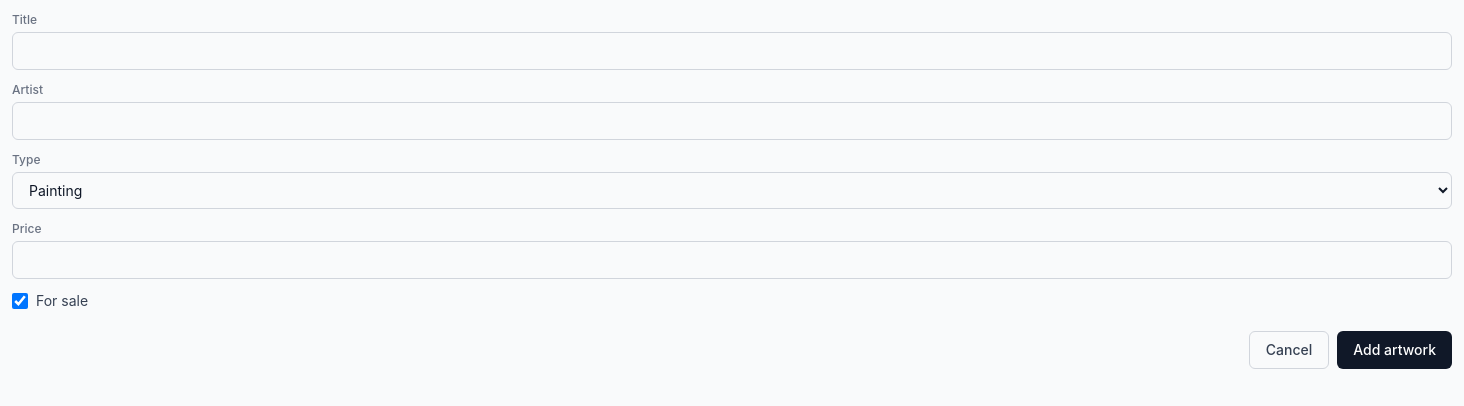
Test: ArtworkForm › rejects a price with more than 2 decimal places
The image size is (1464, 406).
Type "Small Sketch" into the field labelled "Title" at x=732, y=51, box x1=12 y1=32 x2=1452 y2=70
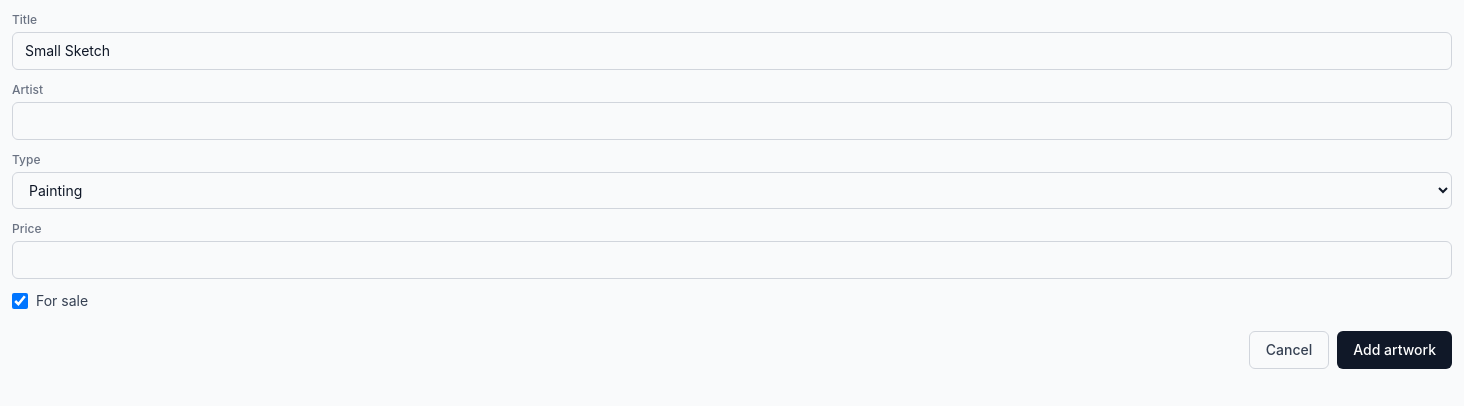
Type "Jane Doe" into the field labelled "Artist" at x=732, y=121, box x1=12 y1=102 x2=1452 y2=140
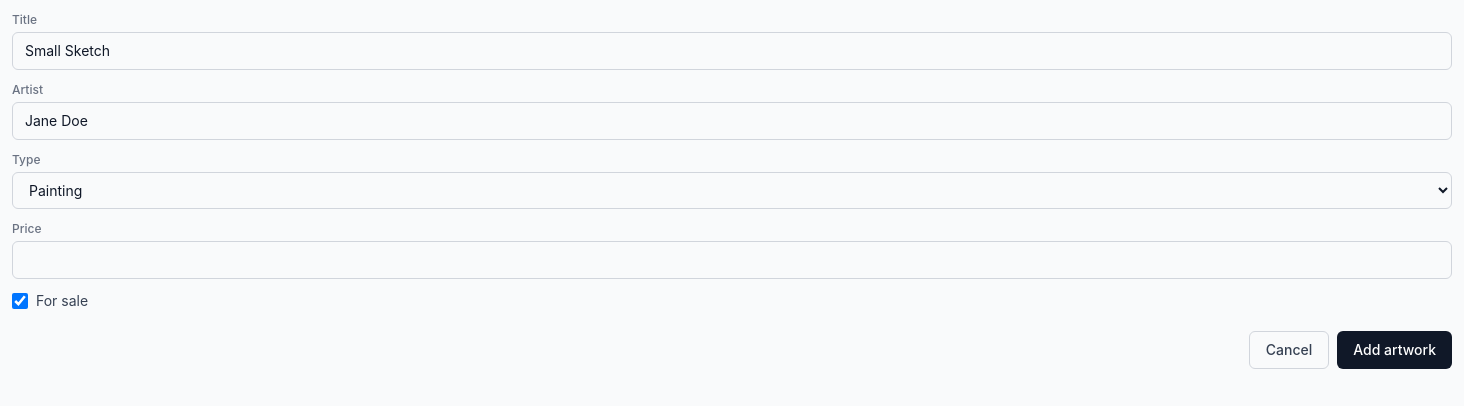
Type "10.555" into the number field labelled "Price" at x=732, y=260, box x1=12 y1=241 x2=1452 y2=279
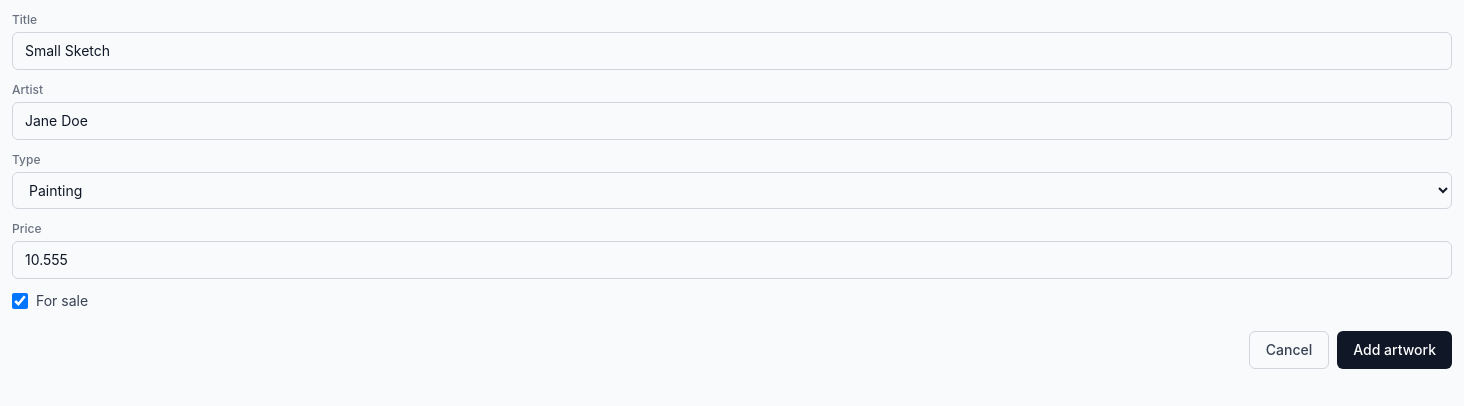
Click the button "Add artwork" at x=1395, y=350, box x1=1337 y1=331 x2=1452 y2=369
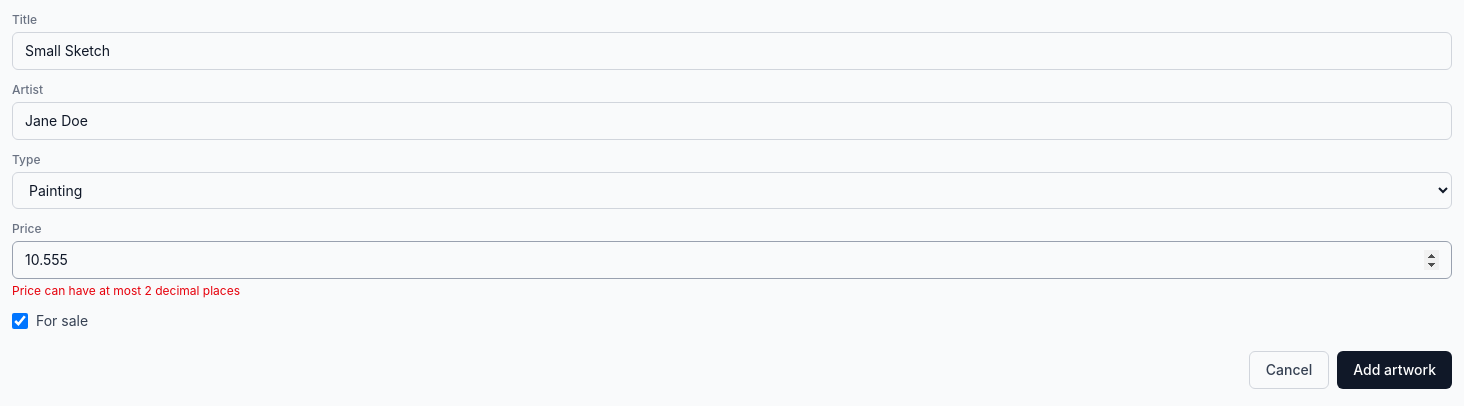
Check: the text "Price can have at most 2 decimal places" is shown, box x1=12 y1=283 x2=240 y2=298
